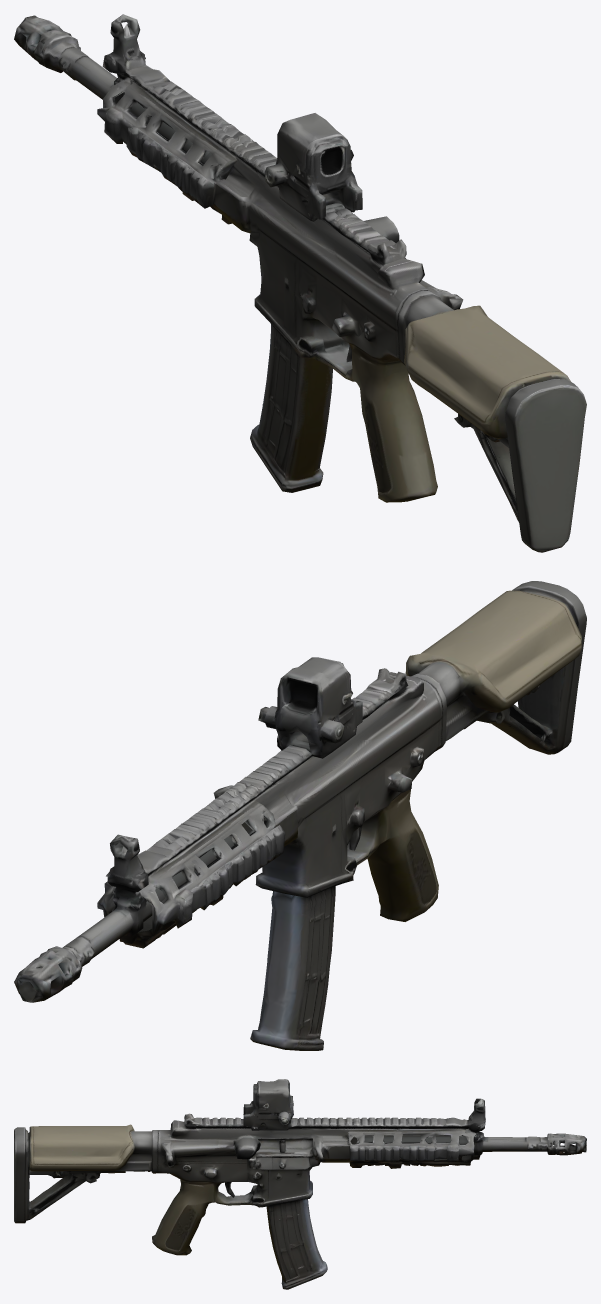
File: carbine.raw.glb
3 renders of one model, top to bottom at view 1: azimuth 30°, elevation 25°; view 2: azimuth 150°, elevation 25°; view 3: azimuth 270°, elevation 25°, orthographic. The views are drawn at different scales.
Visible parts, largest first — view 1: tripo_node_2ed48a27-bf54-48cc-87a2-4848cba83270; view 2: tripo_node_2ed48a27-bf54-48cc-87a2-4848cba83270; view 3: tripo_node_2ed48a27-bf54-48cc-87a2-4848cba83270.
Part boxes in pixels (x1=…): tripo_node_2ed48a27-bf54-48cc-87a2-4848cba83270: x1=14, y1=14, x2=586, y2=552; tripo_node_2ed48a27-bf54-48cc-87a2-4848cba83270: x1=14, y1=581, x2=586, y2=1050; tripo_node_2ed48a27-bf54-48cc-87a2-4848cba83270: x1=14, y1=1079, x2=586, y2=1289.
Bounding box in the file's own units: 0.116 × 0.3906 × 1.
Materials: 1 (1 with a texture image).
